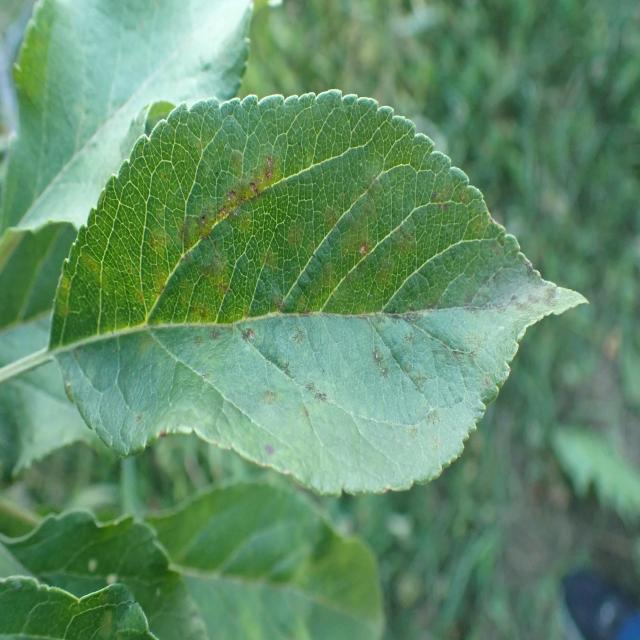scab: (78, 127, 577, 469)
